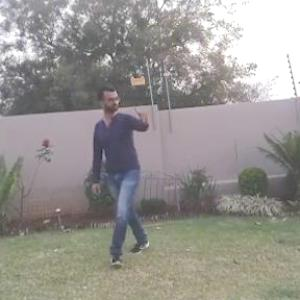takeoff-hand: (128, 103, 151, 135)
